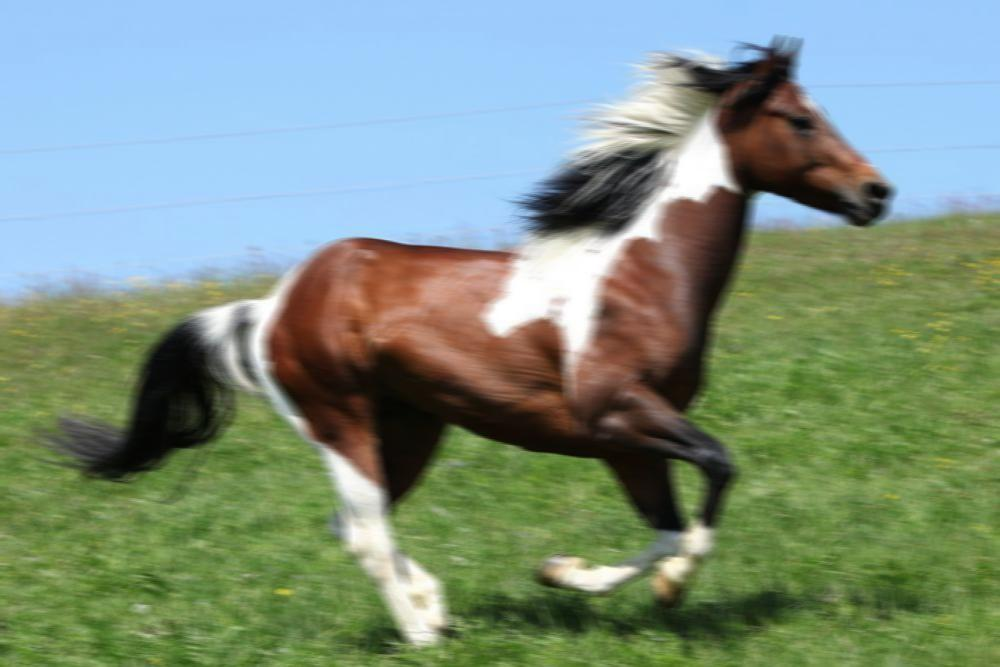horse: (11, 29, 899, 655)
